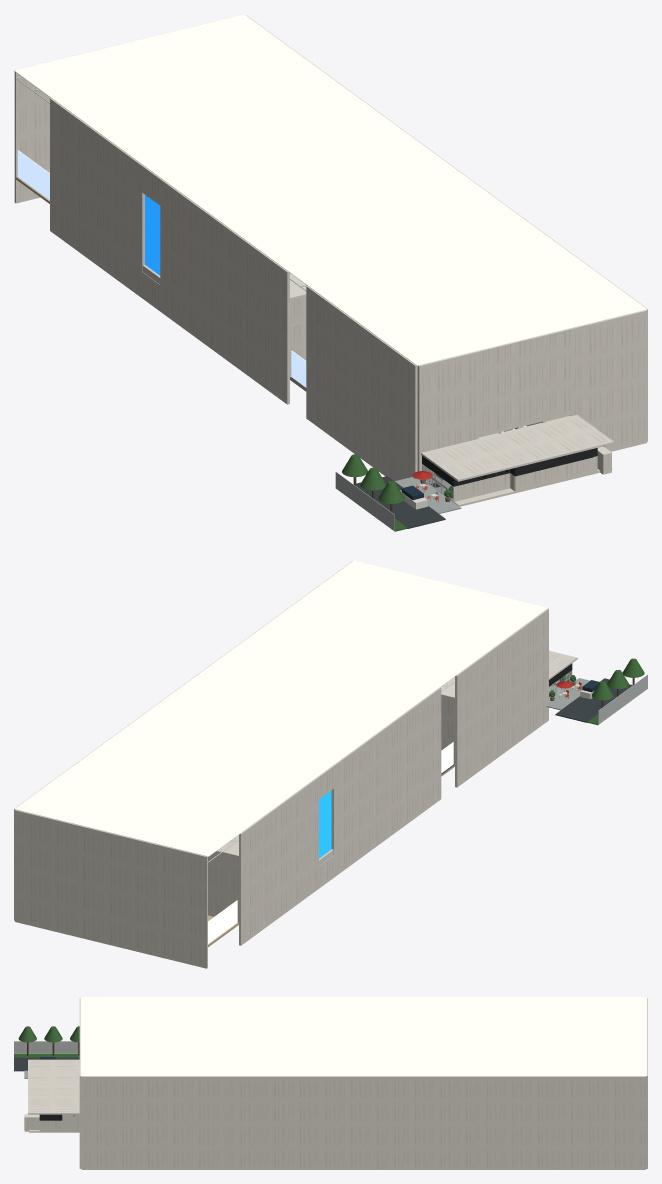
File: campus.glb
3 renders of one model, top to bottom at view 1: azimuth 30°, elevation 25°; view 2: azimuth 150°, elevation 25°; view 3: azimuth 270°, elevation 25°, orthographic. The views are drawn at different scales.
Parts seen in each view (by area): view 1: Roof, Main, NoShadow (×2); view 2: Roof, Main, NoShadow (×2); view 3: Main, Roof.
Part boxes in pixels (x1,y1,x2,y2): Roof: (14,14,647,365); Main: (14,14,647,531); NoShadow (×2): (17,150,306,387); Roof: (14,560,548,862); Main: (14,561,647,968); NoShadow (×2): (208,742,453,943); Main: (14,998,647,1169); Roof: (80,997,646,1076).
Size of the model in its own units: 48.4 by 20.39 by 124.
Materials: 180 (146 with a texture image).
